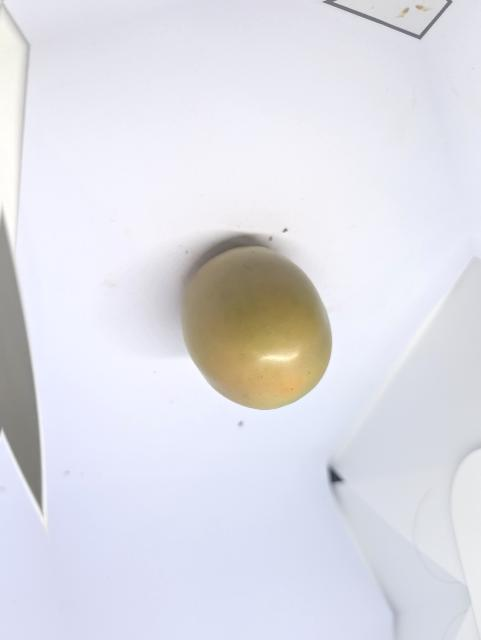breaker: (182, 246, 332, 409)
